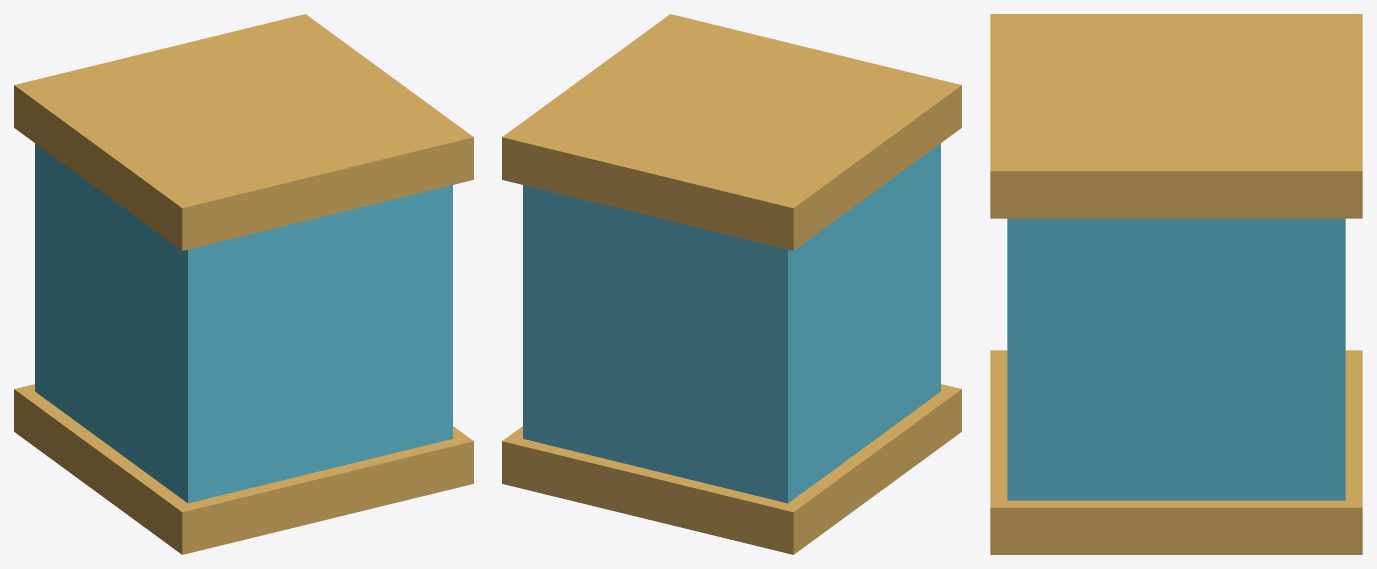
The model's file is SmallTH_Middle.fbx.
The picture shows the model from 3 angles, left to right: view 1: azimuth 30°, elevation 25°; view 2: azimuth 150°, elevation 25°; view 3: azimuth 270°, elevation 25°; orthographic projection. The views are drawn at different scales.
Visible parts, largest first — view 1: SmallTH_Middle; view 2: SmallTH_Middle; view 3: SmallTH_Middle.
Boxes of the visible parts, box(x1,y1,x2,y2) form: SmallTH_Middle: box(14, 14, 473, 554); SmallTH_Middle: box(502, 14, 961, 554); SmallTH_Middle: box(990, 14, 1362, 554).
Size of the model in its own units: 2.2 by 2.5 by 2.2.
